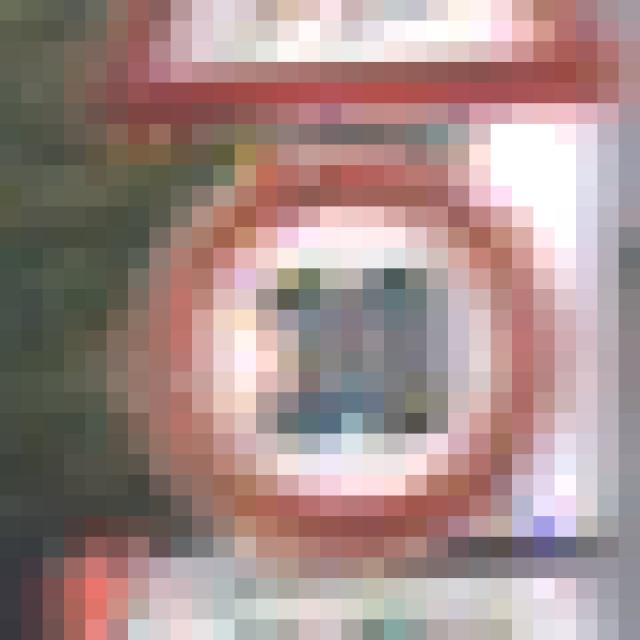Speed Limit -30-: (96, 113, 501, 506)
